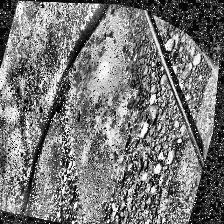pothole: (20, 2, 184, 224)
